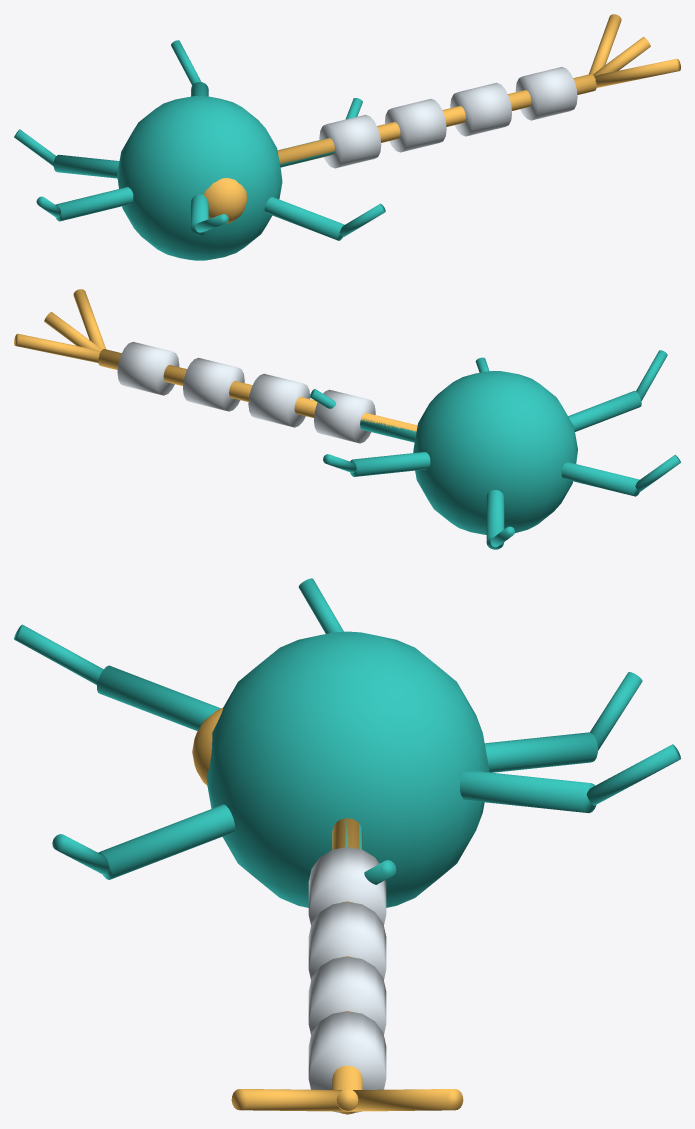
Rendered from neuron-lite.glb.
3 renders of one model, top to bottom at view 1: azimuth 30°, elevation 25°; view 2: azimuth 150°, elevation 25°; view 3: azimuth 270°, elevation 25°, orthographic. The views are drawn at different scales.
Visible parts, largest first — view 1: Cell body; view 2: Cell body; view 3: Cell body.
Boxes of the visible parts, x1,y1,x2,y2 form: Cell body: [14, 14, 680, 260]; Cell body: [14, 289, 680, 549]; Cell body: [14, 578, 680, 1114].
Bounding box in the file's own units: 2.87 × 0.66 × 1.55.
